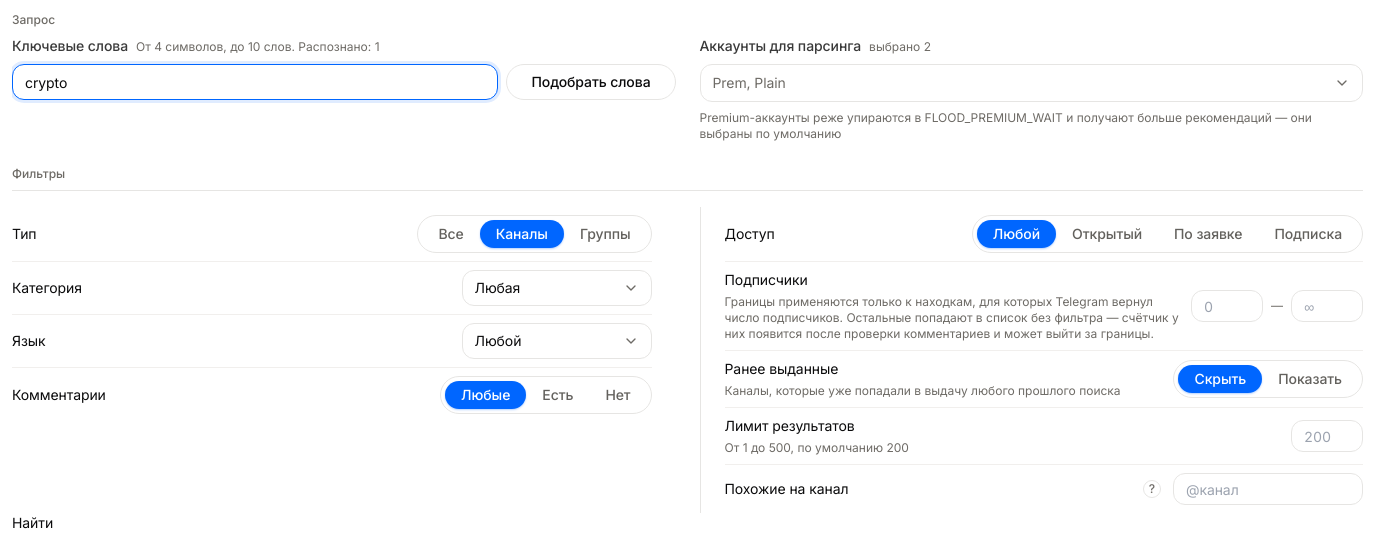
Test: DiscoveryForm keyword suggester › explains the llm_unavailable answer
Click the button "Подобрать слова" at (591, 82), box [506,64,676,100]
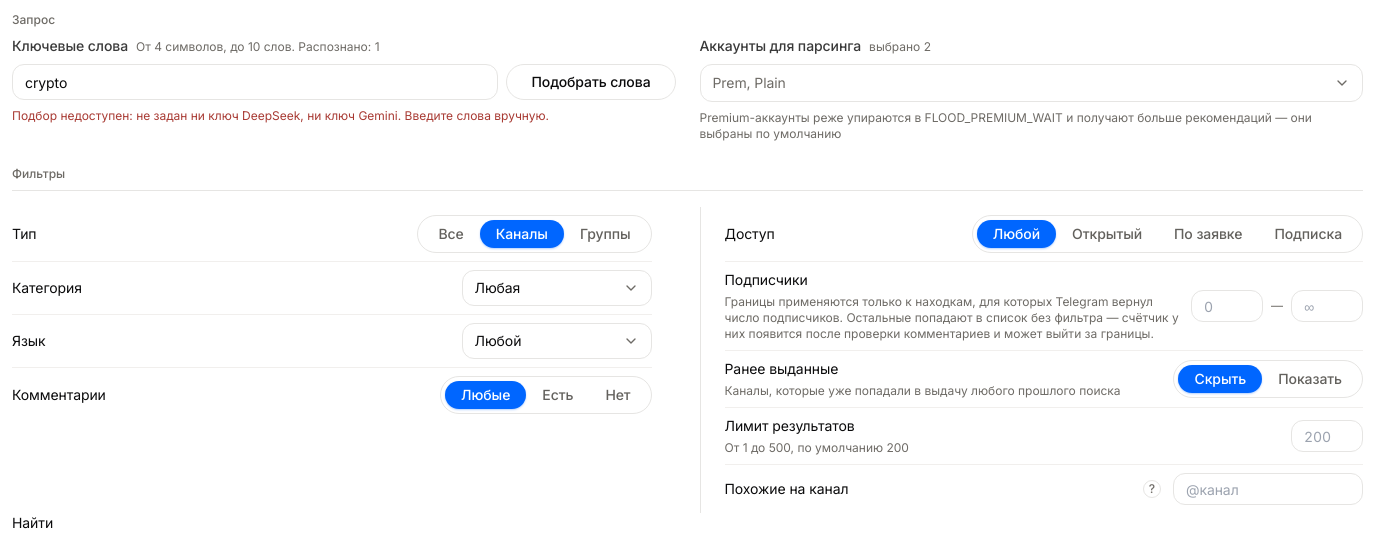
expect the field with placeholder "крипта, трейдинг, новости" holds "crypto": met, box [12,64,498,100]
expect the text "ни ключ DeepSeek, ни ключ Gemini" is shown: met, box [12,108,549,123]
